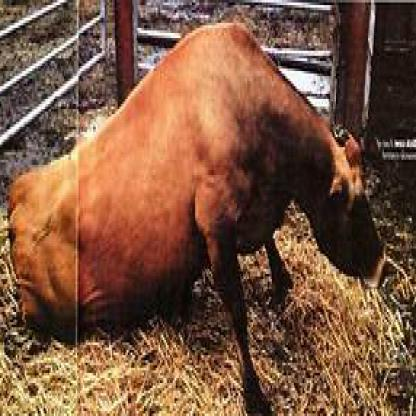cow: (4, 21, 390, 414)
